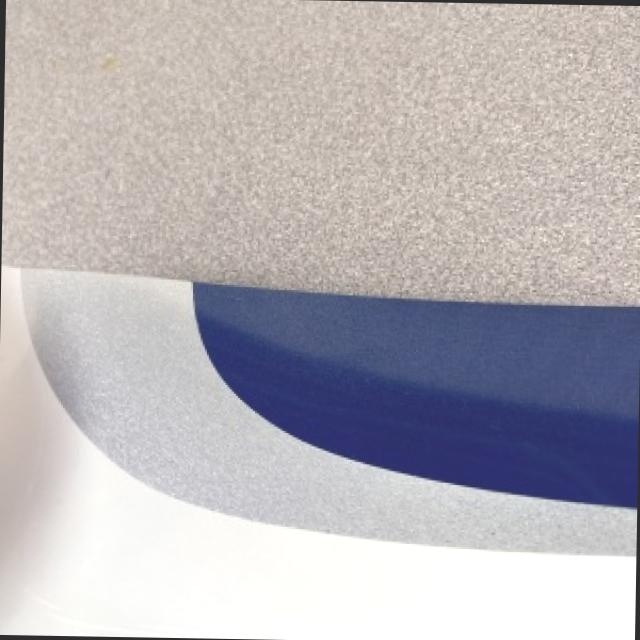healthy: (0, 0, 640, 640), (22, 270, 637, 550)
